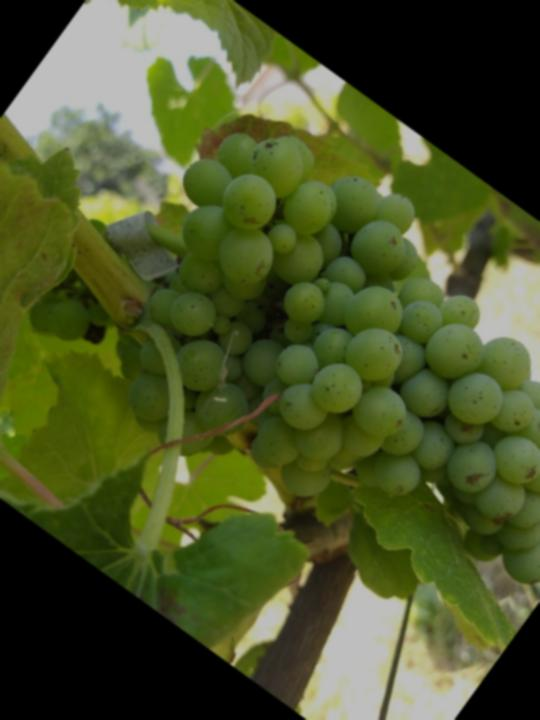grape: (42, 80, 540, 680)
